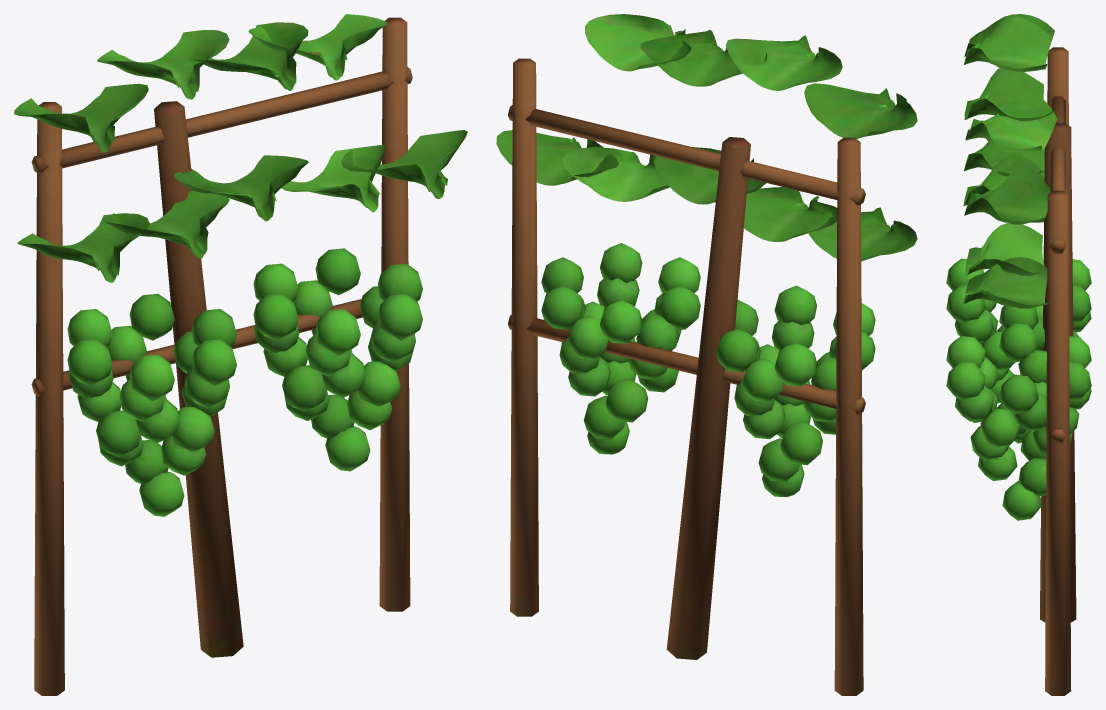
Rendered from crop_green_bean.glb.
3 renders of one model, left to right at view 1: azimuth 30°, elevation 25°; view 2: azimuth 150°, elevation 25°; view 3: azimuth 270°, elevation 25°, orthographic. The views are drawn at different scales.
Visible parts, largest first — view 1: crop_green_bean, fruit; view 2: crop_green_bean, fruit; view 3: crop_green_bean, fruit.
Part boxes in pixels (x1,y1,x2,y2): crop_green_bean: (14,14,467,695); fruit: (67,248,422,516); crop_green_bean: (496,14,917,695); fruit: (541,243,875,497); crop_green_bean: (963,14,1076,695); fruit: (946,258,1091,520).
Bounding box in the file's own units: 0.3364 × 0.4626 × 0.1115.
Materials: 1 (1 with a texture image).
